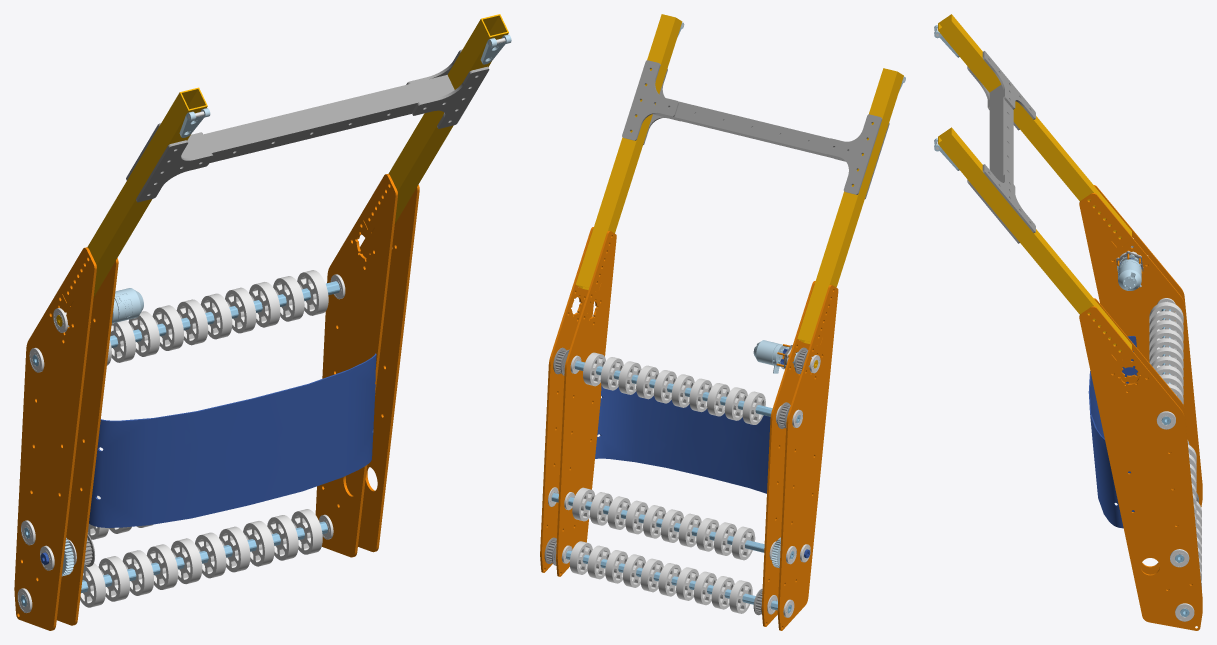
The picture shows the model from 3 angles, left to right: view 1: azimuth 30°, elevation 25°; view 2: azimuth 150°, elevation 25°; view 3: azimuth 270°, elevation 25°; orthographic projection. The views are drawn at different scales.
Visible parts, largest first — view 1: 04_INTAKE_PLATE (×4), 04_BACKSTOP, TTB-0032_2INCH_SQUISH_WHEEL (×19), 03_ARM_MAIN_LINK (×2), 03_ARM_CROSS, AM-4158_1IN_TEE_GUSSET (×2), 04_INTAKE_ROLLER_SHAFT (×2), NEO_550_MOTOR__REV-21-1651_; view 2: 04_INTAKE_PLATE (×4), TTB-0032_2INCH_SQUISH_WHEEL (×30), 04_BACKSTOP, 03_ARM_MAIN_LINK (×2), AM-4158_1IN_TEE_GUSSET (×2), 03_ARM_CROSS, 04_INTAKE_ROLLER_SHAFT (×3), NEO_550_MOTOR__REV-21-1651_; view 3: 04_INTAKE_PLATE (×4), 03_ARM_MAIN_LINK (×2), 04_BACKSTOP, 03_ARM_CROSS, AM-4158_1IN_TEE_GUSSET (×2), NEO_550_MOTOR__REV-21-1651_.
Boxes of the visible parts, x1,y1,x2,y2 form: 04_INTAKE_PLATE (×4): (14, 174, 419, 630); 04_BACKSTOP: (89, 353, 376, 527); TTB-0032_2INCH_SQUISH_WHEEL (×19): (80, 270, 328, 607); 03_ARM_MAIN_LINK (×2): (87, 14, 508, 296); 03_ARM_CROSS: (181, 75, 454, 163); AM-4158_1IN_TEE_GUSSET (×2): (136, 66, 489, 202); 04_INTAKE_ROLLER_SHAFT (×2): (20, 281, 339, 606); NEO_550_MOTOR__REV-21-1651_: (112, 288, 143, 323); 04_INTAKE_PLATE (×4): (540, 227, 838, 630); TTB-0032_2INCH_SQUISH_WHEEL (×30): (569, 352, 765, 613); 04_BACKSTOP: (595, 385, 770, 493); 03_ARM_MAIN_LINK (×2): (575, 14, 903, 344); AM-4158_1IN_TEE_GUSSET (×2): (622, 60, 882, 194); 03_ARM_CROSS: (653, 101, 849, 161); 04_INTAKE_ROLLER_SHAFT (×3): (551, 360, 800, 613); NEO_550_MOTOR__REV-21-1651_: (753, 340, 785, 373); 04_INTAKE_PLATE (×4): (1079, 185, 1202, 630); 03_ARM_MAIN_LINK (×2): (938, 14, 1131, 351); 04_BACKSTOP: (1088, 336, 1137, 528); 03_ARM_CROSS: (989, 84, 1013, 183); AM-4158_1IN_TEE_GUSSET (×2): (982, 51, 1035, 232); NEO_550_MOTOR__REV-21-1651_: (1118, 259, 1141, 290).
Bounding box in the file's own units: 0.4384 × 0.8098 × 0.3976.
